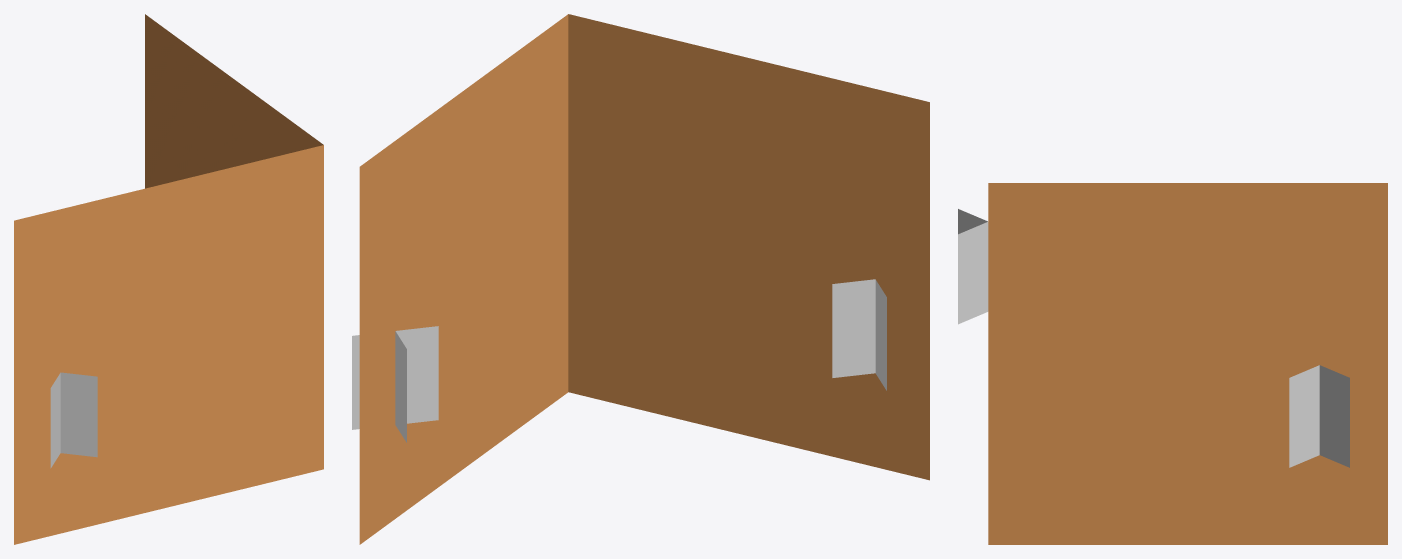
File: Fence_BH_20201_04.fbx
3 renders of one model, left to right at view 1: azimuth 30°, elevation 25°; view 2: azimuth 150°, elevation 25°; view 3: azimuth 270°, elevation 25°, orthographic. The views are drawn at different scales.
Visible parts, largest first — view 1: Fence_BH_20201_04; view 2: Fence_BH_20201_04; view 3: Fence_BH_20201_04.
Part boxes in pixels (<box>): Fence_BH_20201_04: <box>14,14,323,544</box>; Fence_BH_20201_04: <box>352,14,929,544</box>; Fence_BH_20201_04: <box>958,183,1387,544</box>.
Size of the model in its own units: 53.8 by 50 by 53.8.
1 material, 1 textured.
